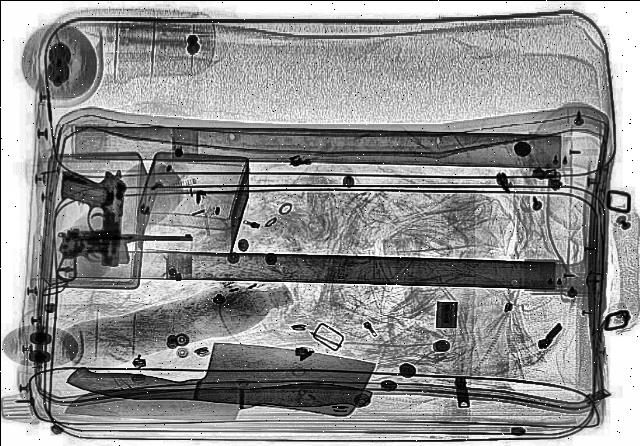Gun: (52, 225, 192, 284), (52, 167, 126, 265)
Knife: (62, 320, 374, 427), (62, 371, 372, 425)
